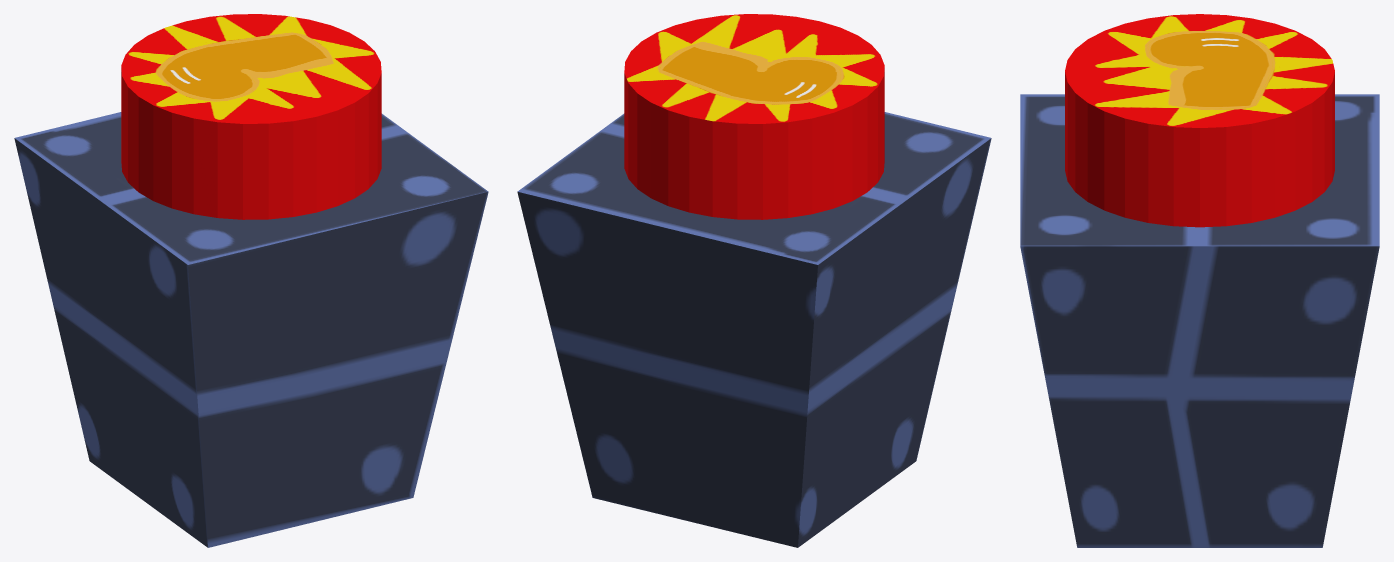
The model's file is Button (Off_Red).fbx.
3 renders of one model, left to right at view 1: azimuth 30°, elevation 25°; view 2: azimuth 150°, elevation 25°; view 3: azimuth 270°, elevation 25°, orthographic. The views are drawn at different scales.
Parts seen in each view (by area): view 1: Cylinder.001; view 2: Cylinder.001; view 3: Cylinder.001.
Part boxes in pixels (<box>): Cylinder.001: <box>14,14,488,547</box>; Cylinder.001: <box>517,14,991,547</box>; Cylinder.001: <box>1020,14,1379,547</box>.
Bounding box in the file's own units: 125 × 163 × 125.
